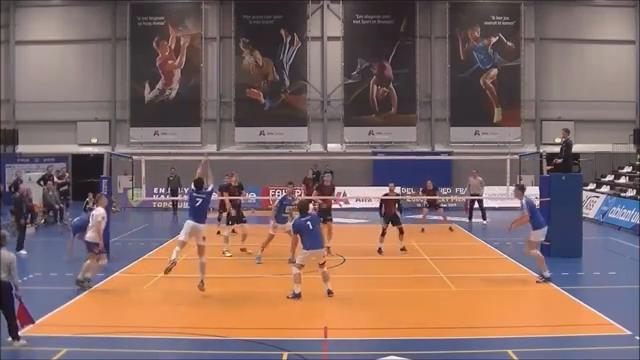Player: (287, 199, 333, 299), (509, 184, 550, 282), (256, 181, 295, 263), (75, 194, 108, 289), (222, 173, 250, 256), (377, 183, 406, 254), (312, 173, 334, 254), (421, 180, 447, 222), (68, 213, 89, 257), (302, 169, 316, 197), (217, 199, 226, 234)
Receive: (160, 144, 215, 293)
ball: (199, 143, 217, 153)
